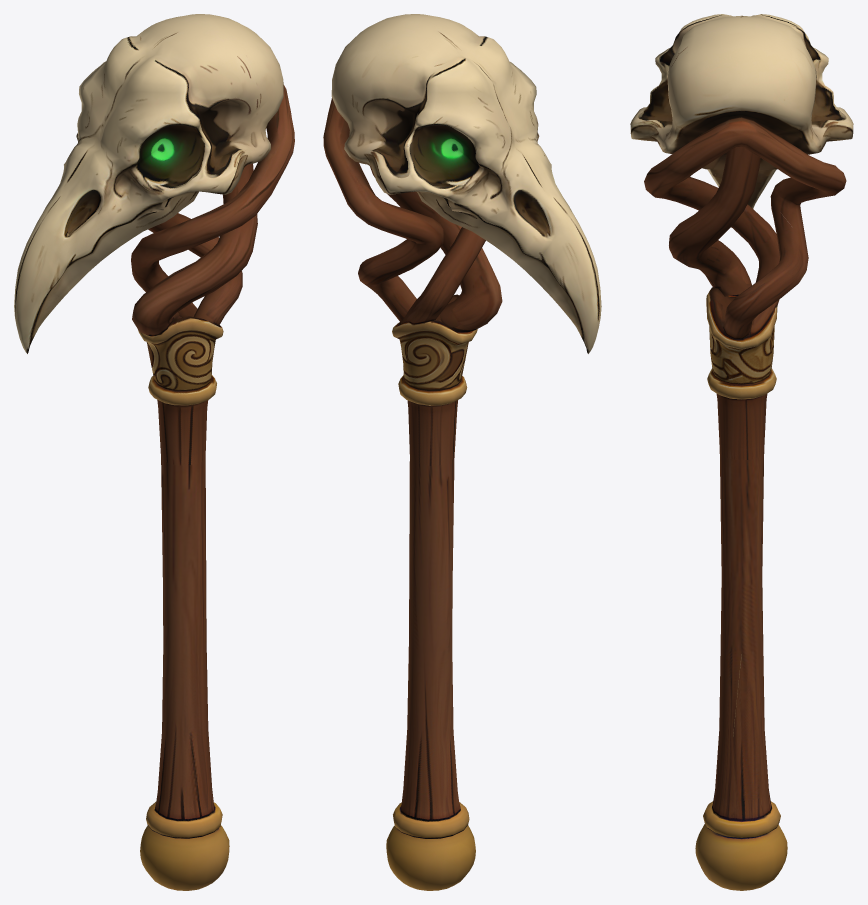
Rendered from staff_plague.glb.
The picture shows the model from 3 angles, left to right: view 1: azimuth 30°, elevation 25°; view 2: azimuth 150°, elevation 25°; view 3: azimuth 270°, elevation 25°; orthographic projection.
Parts seen in each view (by area): view 1: tripo_node_67a2251c-d37a-4139-9df3-d62b9165d022; view 2: tripo_node_67a2251c-d37a-4139-9df3-d62b9165d022; view 3: tripo_node_67a2251c-d37a-4139-9df3-d62b9165d022.
Part boxes in pixels (x1=…): tripo_node_67a2251c-d37a-4139-9df3-d62b9165d022: x1=14, y1=14, x2=294, y2=890; tripo_node_67a2251c-d37a-4139-9df3-d62b9165d022: x1=323, y1=14, x2=601, y2=890; tripo_node_67a2251c-d37a-4139-9df3-d62b9165d022: x1=630, y1=14, x2=853, y2=890.
Size of the model in its own units: 0.3179 by 0.9995 by 0.2329.
1 material, 1 textured.
